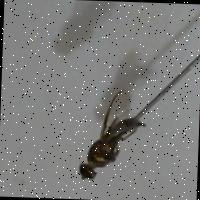Oriental-fruit-fly: (70, 82, 154, 188)
